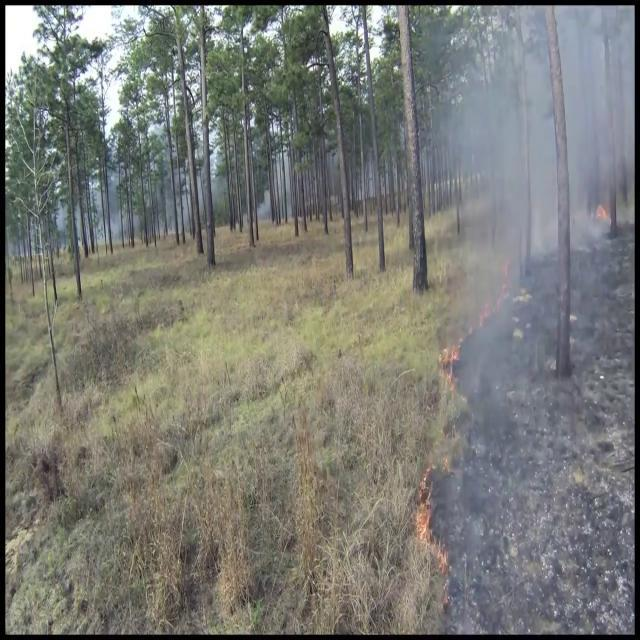Smoke: (440, 7, 632, 533)
